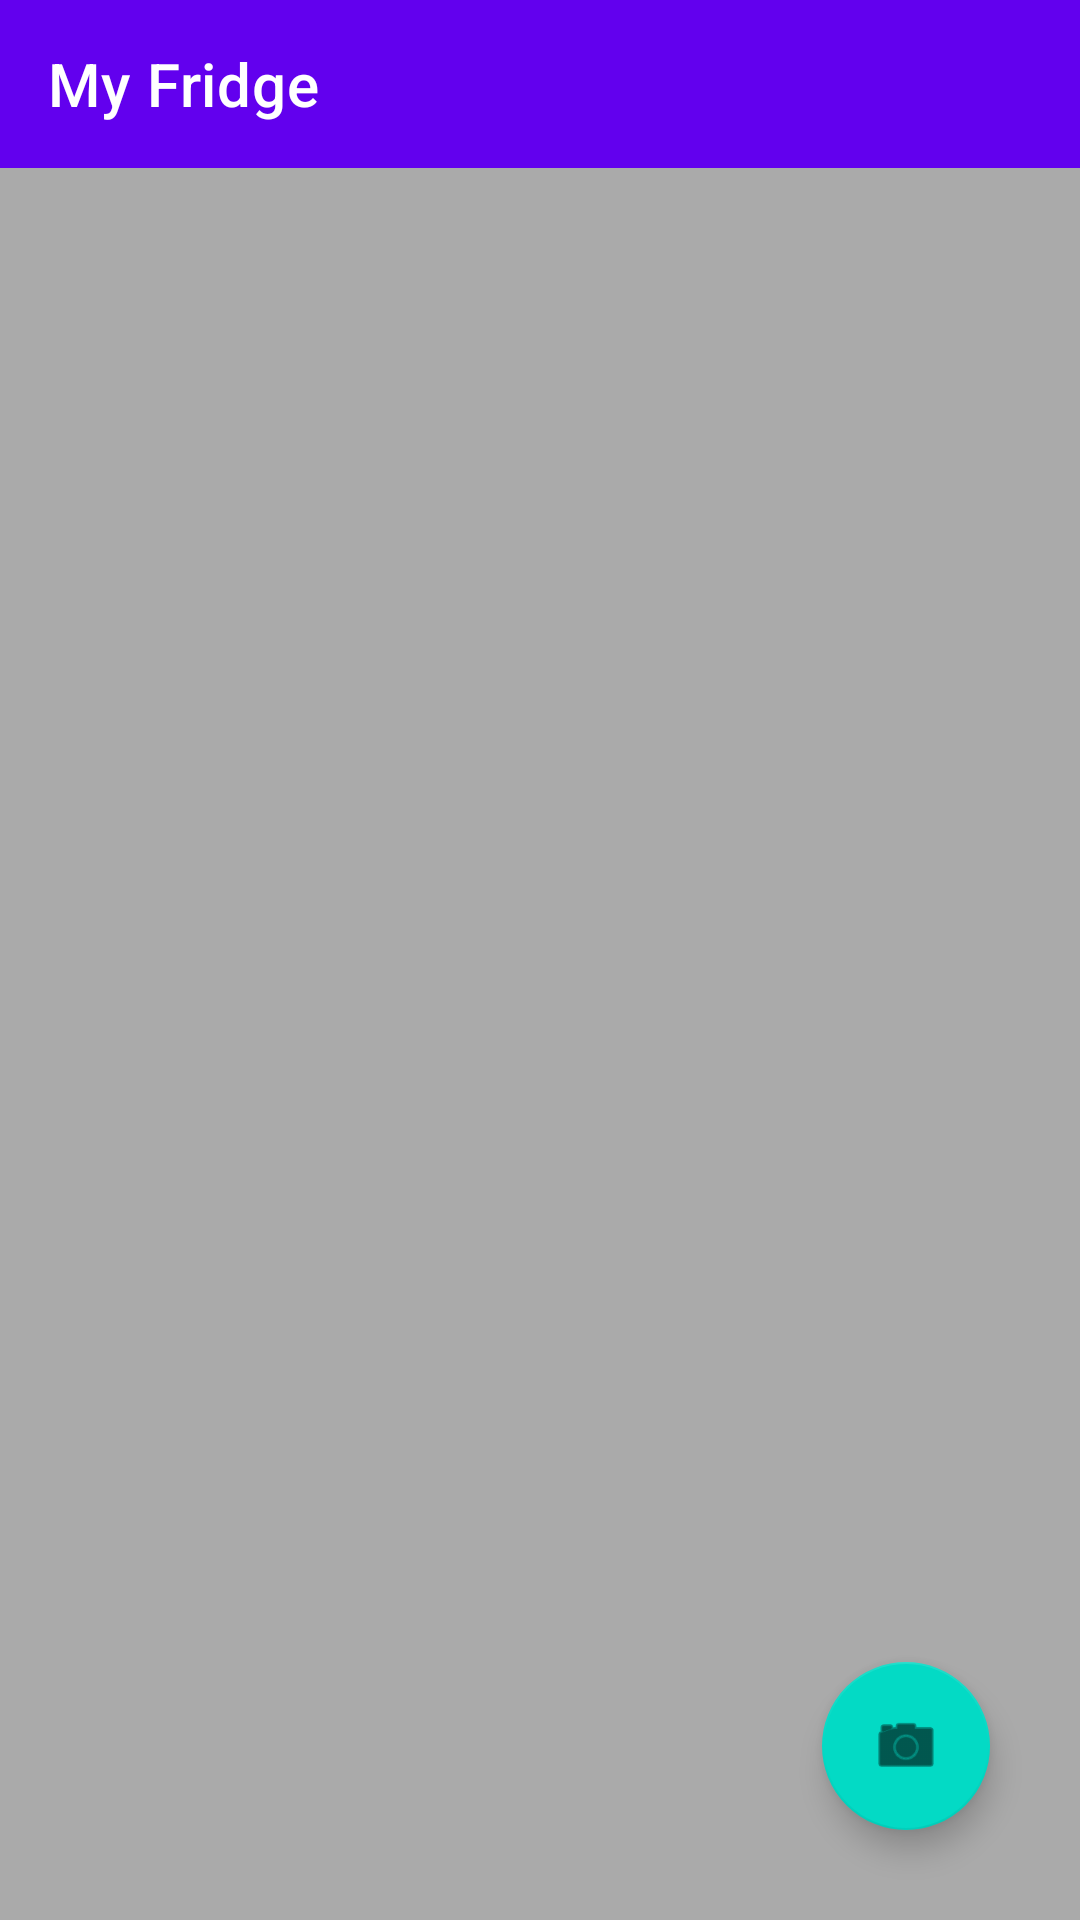

Named icons in this screenshot (1080 x 1920) and their bounding boxes, (x1, y1, x2, y2):
camera: (822, 1662, 990, 1830)
